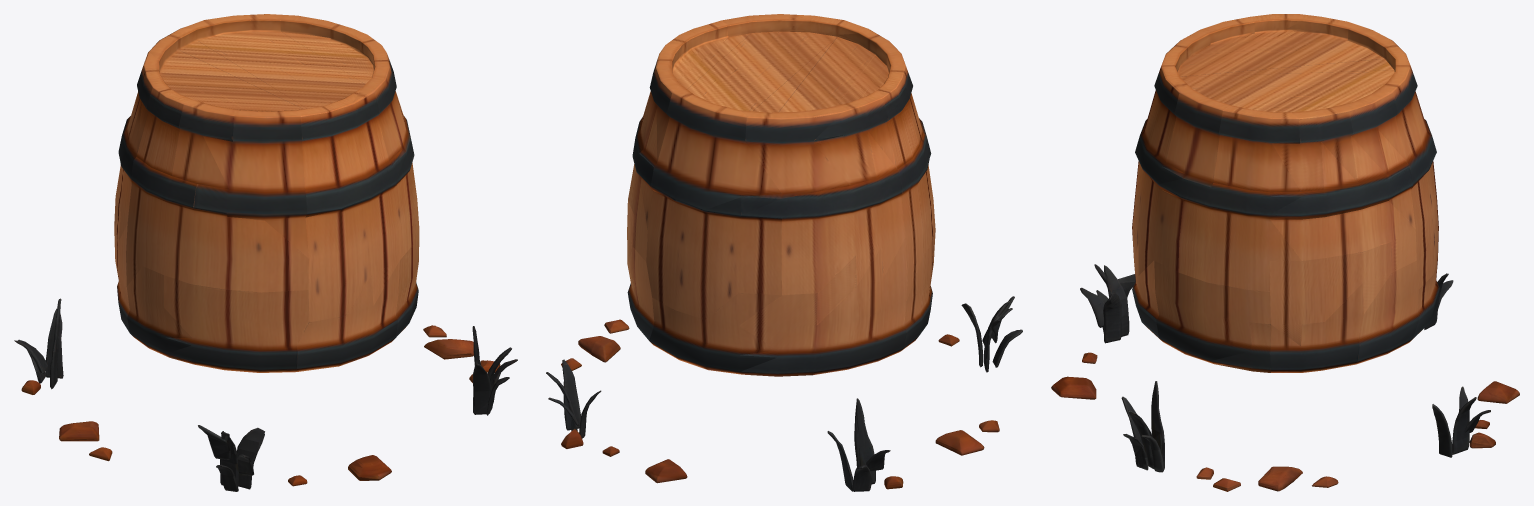
Rendered from prop_barrel_a.glb.
The picture shows the model from 3 angles, left to right: view 1: azimuth 30°, elevation 25°; view 2: azimuth 150°, elevation 25°; view 3: azimuth 270°, elevation 25°; orthographic projection.
Visible parts, largest first — view 1: hollow_normalise; view 2: hollow_normalise; view 3: hollow_normalise.
Part boxes in pixels (x1=…): hollow_normalise: x1=14, y1=14, x2=517, y2=491; hollow_normalise: x1=546, y1=14, x2=1022, y2=491; hollow_normalise: x1=1051, y1=14, x2=1519, y2=491.
Size of the model in its own units: 1.16 by 0.9 by 1.16.
Materials: 1 (1 with a texture image).
